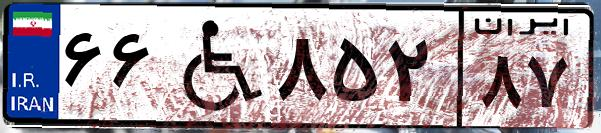2: (385, 28, 445, 110)
5: (330, 28, 385, 110)
6: (57, 26, 110, 100), (110, 28, 158, 98)
7: (525, 38, 570, 115)
8: (270, 28, 330, 110), (475, 38, 525, 113)
ژ (معلولین و جانبازان): (158, 12, 270, 120)
